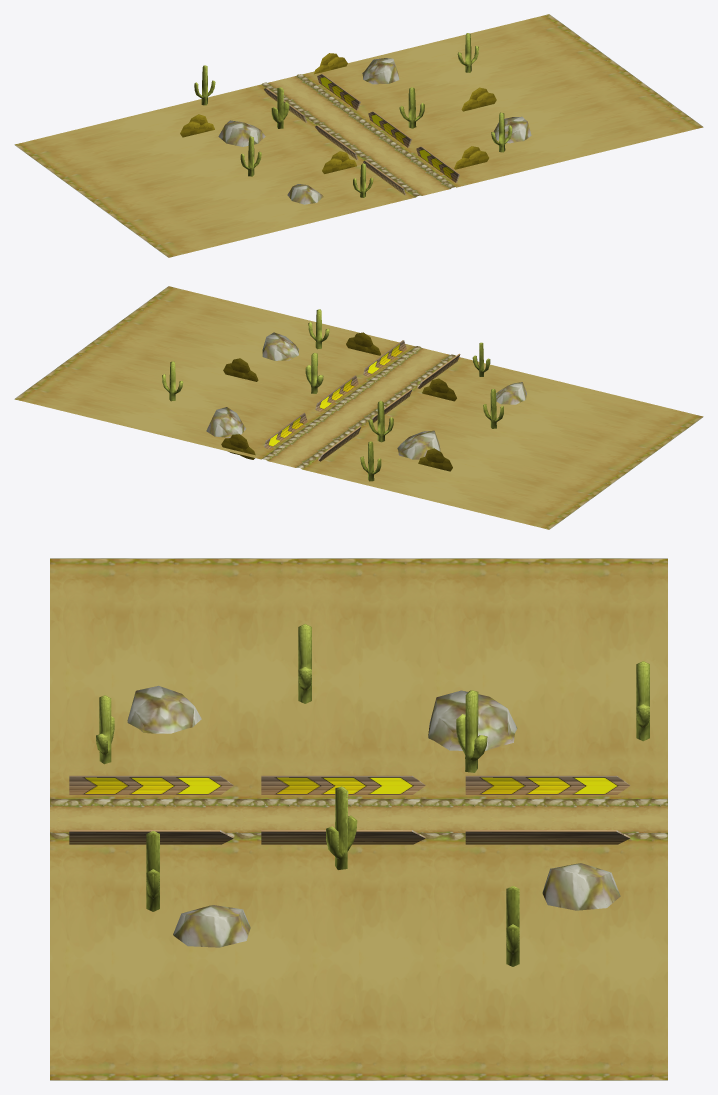
Rendered from DesertRoad01_Short.FBX.
3 views of the same model, one above another, from view 1: azimuth 30°, elevation 25°; view 2: azimuth 150°, elevation 25°; view 3: azimuth 270°, elevation 25° (orthographic). The views are drawn at different scales.
Visible parts, largest first — view 1: Road, Stone (×4), Bush (×5), Fence (×3), Cactus (×3); view 2: Road, Stone (×4), Bush (×5), Fence (×3), Cactus (×3); view 3: Road, Fence (×6), Stone (×4), Cactus (×7).
Part boxes in pixels (x1,y1,x2,y2): Road: (14,14,703,257); Stone (×4): (218,58,531,204); Bush (×5): (180,53,496,173); Fence (×3): (317,74,459,182); Cactus (×3): (240,87,424,176); Road: (14,286,703,529); Stone (×4): (206,332,526,459); Bush (×5): (221,332,456,471); Fence (×3): (264,340,406,449); Cactus (×3): (305,353,503,442); Road: (50,558,667,1080); Fence (×6): (69,775,630,844); Stone (×4): (127,685,620,947); Cactus (×7): (96,624,649,966).
Size of the model in its own units: 10000 by 814 by 5000.
